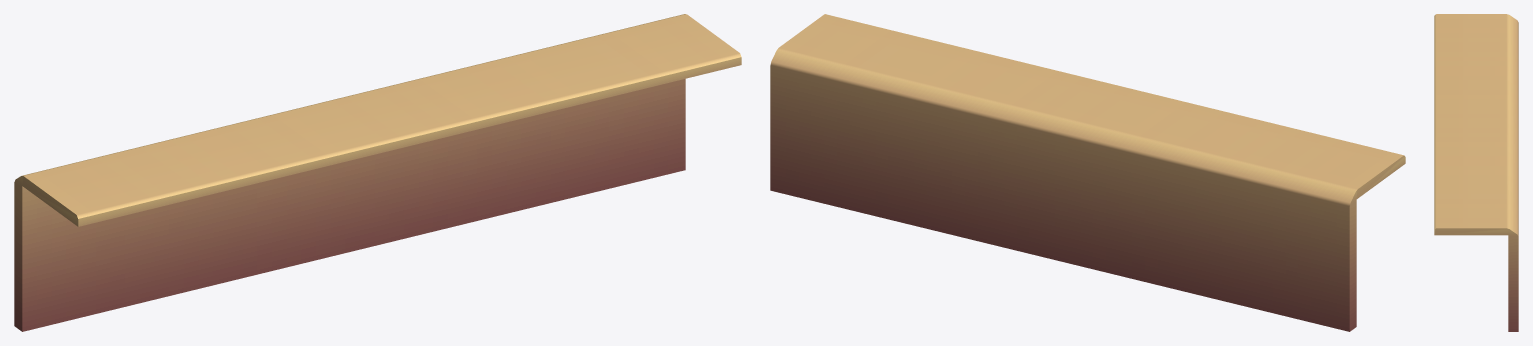
The model's file is Desk_01.fbx.
3 views of the same model, side by side, from view 1: azimuth 30°, elevation 25°; view 2: azimuth 150°, elevation 25°; view 3: azimuth 270°, elevation 25° (orthographic). The views are drawn at different scales.
Visible parts, largest first — view 1: Desk_01; view 2: Desk_01; view 3: Desk_01.
Part boxes in pixels (x1,y1,x2,y2): Desk_01: (14,14,741,331); Desk_01: (770,14,1405,331); Desk_01: (1434,14,1518,331).
Size of the model in its own units: 6 by 1.35 by 1.
Materials: 1 (1 with a texture image).
